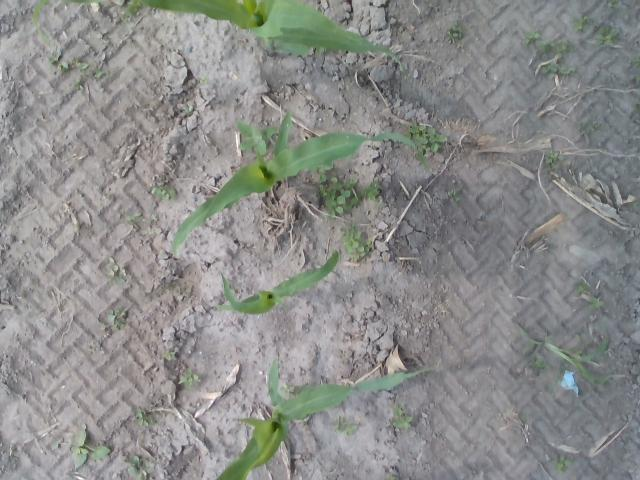Maize: (173, 111, 433, 257), (35, 0, 408, 77), (215, 353, 432, 480), (214, 251, 338, 315)
Weeds: (544, 333, 626, 384), (72, 424, 111, 468), (322, 176, 356, 218), (237, 121, 276, 155), (515, 323, 543, 354), (99, 307, 127, 331), (420, 128, 447, 150), (107, 259, 127, 286), (390, 405, 412, 428), (335, 416, 357, 436), (598, 25, 618, 46), (178, 368, 200, 385), (540, 63, 574, 74), (344, 228, 359, 252), (544, 153, 564, 171), (152, 186, 176, 200), (128, 456, 145, 475), (556, 454, 572, 474), (315, 165, 332, 182), (127, 1, 142, 20), (406, 123, 424, 138), (364, 182, 379, 200), (446, 23, 462, 39), (126, 211, 142, 226), (136, 409, 150, 426), (358, 239, 370, 258), (576, 118, 590, 134), (572, 16, 586, 32), (73, 58, 90, 69), (525, 32, 539, 44), (556, 41, 570, 53), (531, 358, 546, 369), (160, 350, 176, 360), (52, 438, 68, 448), (542, 42, 554, 54), (50, 51, 61, 63), (58, 61, 70, 72), (448, 190, 459, 202), (282, 384, 295, 394), (591, 298, 601, 310), (78, 68, 90, 76), (144, 227, 154, 236), (185, 106, 195, 114), (200, 76, 210, 84), (74, 80, 84, 88), (95, 70, 104, 78), (592, 122, 599, 130), (578, 285, 586, 292), (634, 57, 640, 66), (152, 214, 159, 221), (608, 0, 618, 4), (636, 104, 640, 112), (637, 77, 640, 86)
